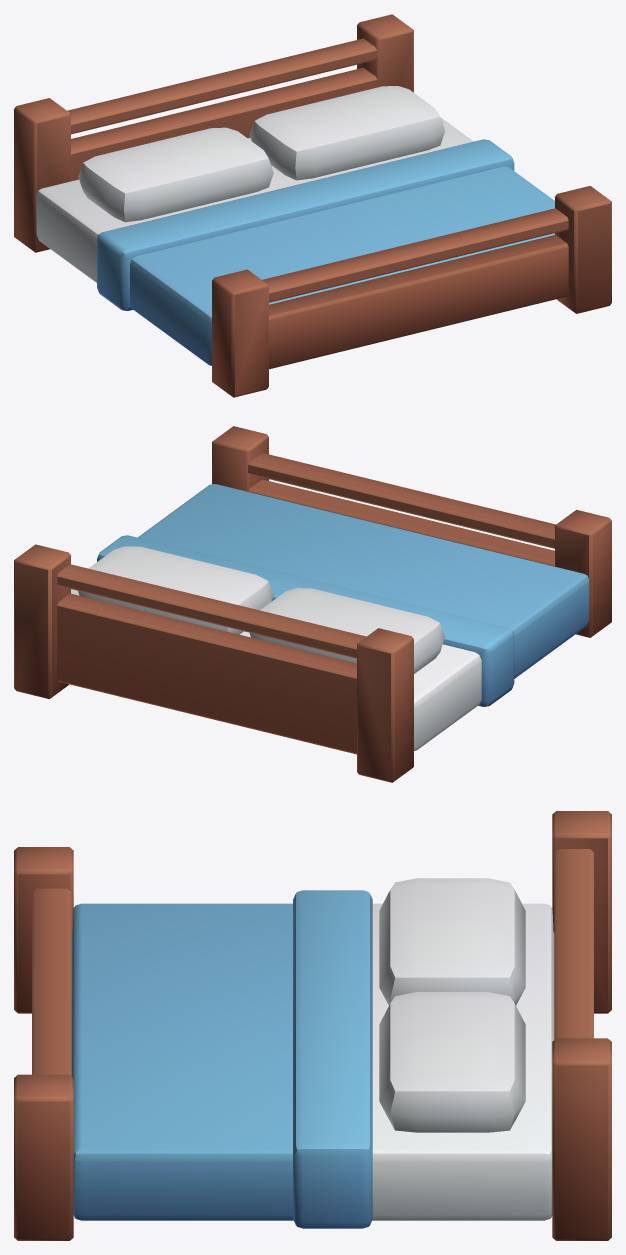
The model's file is kkf.bed_double_b.glb.
3 renders of one model, top to bottom at view 1: azimuth 30°, elevation 25°; view 2: azimuth 150°, elevation 25°; view 3: azimuth 270°, elevation 25°, orthographic. The views are drawn at different scales.
Parts seen in each view (by area): view 1: bed_double_B; view 2: bed_double_B; view 3: bed_double_B.
Boxes of the visible parts, bbox=[...] form: bed_double_B: bbox=[14, 14, 611, 397]; bed_double_B: bbox=[14, 426, 611, 782]; bed_double_B: bbox=[14, 811, 611, 1240].
Size of the model in its own units: 2.22 by 0.7154 by 2.15.
1 material, 1 textured.
